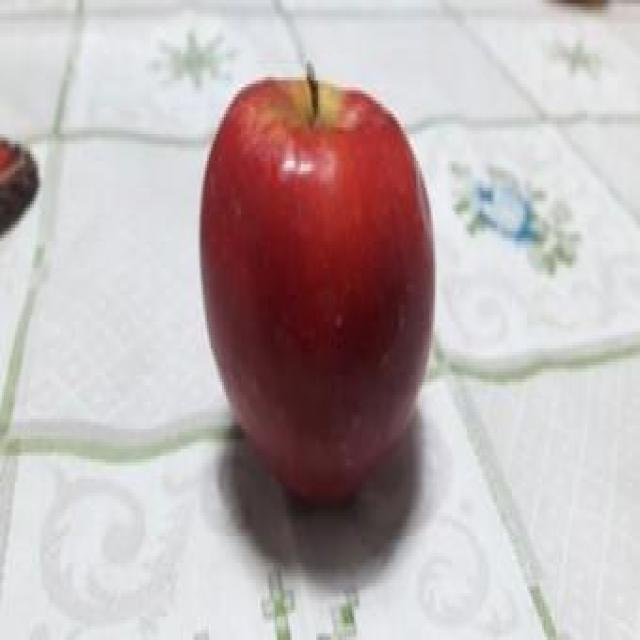apple: (198, 60, 436, 506)
